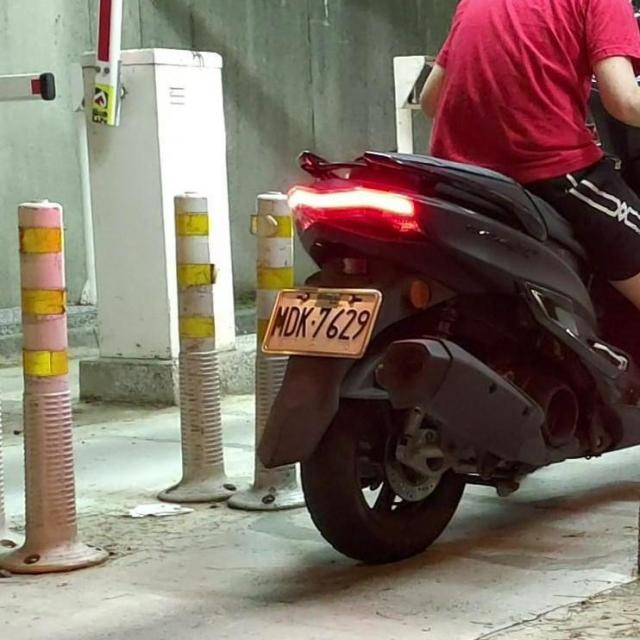W: (261, 280, 385, 362)
